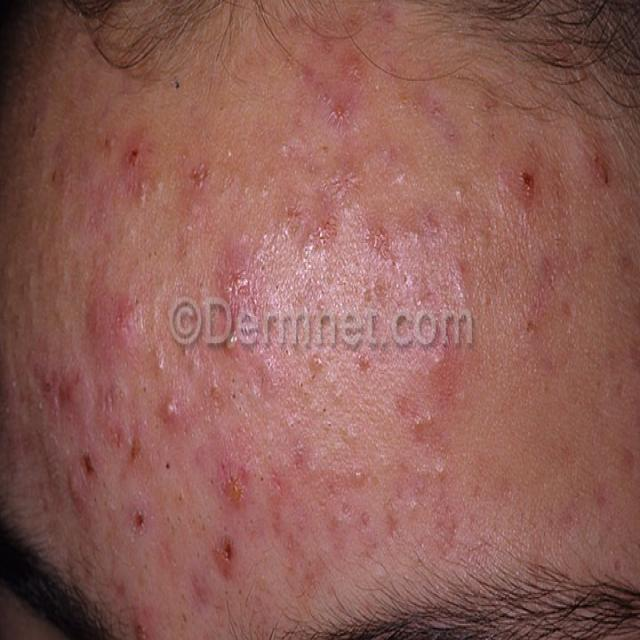Acne: (84, 294, 142, 349), (39, 366, 86, 409), (217, 460, 253, 509), (213, 530, 238, 580), (588, 147, 614, 191), (216, 266, 250, 298), (76, 443, 101, 482), (326, 96, 353, 132), (514, 164, 540, 200), (188, 156, 210, 195), (124, 135, 148, 170), (412, 405, 438, 437), (160, 391, 182, 428), (135, 170, 166, 195), (129, 502, 147, 536), (343, 53, 363, 82), (428, 349, 447, 376), (132, 616, 152, 640), (450, 178, 467, 204), (351, 464, 367, 491), (223, 332, 240, 356), (310, 352, 326, 375), (356, 350, 372, 373), (434, 460, 449, 481), (359, 506, 372, 530)
